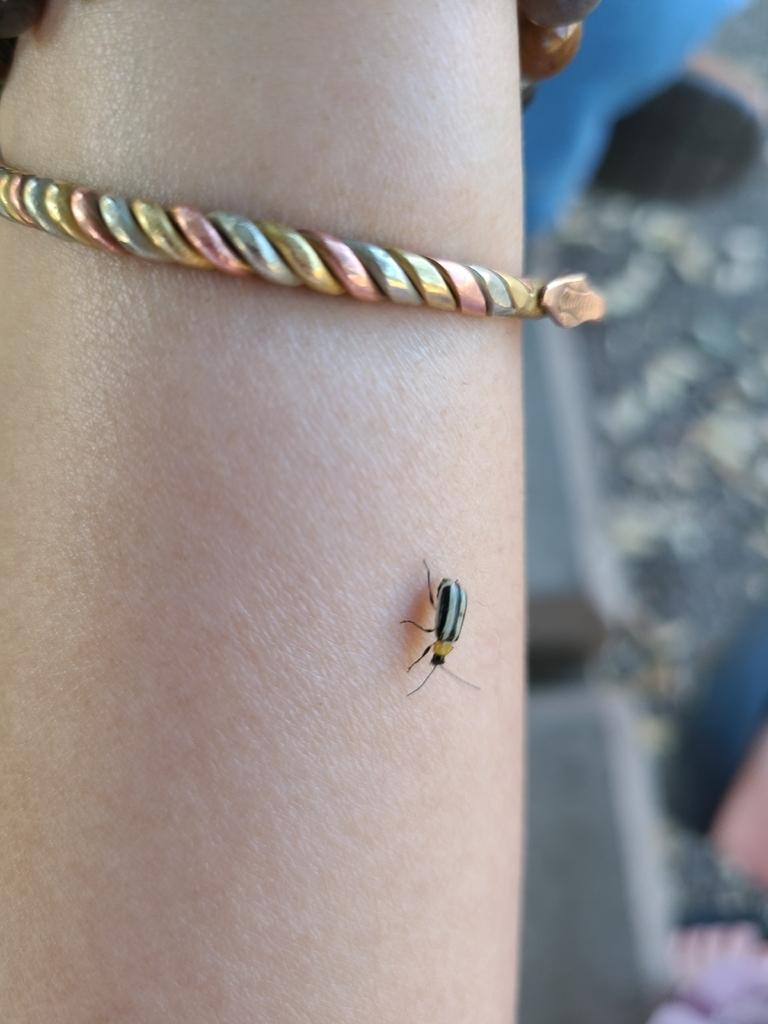potato_beetle: (374, 526, 507, 729)
